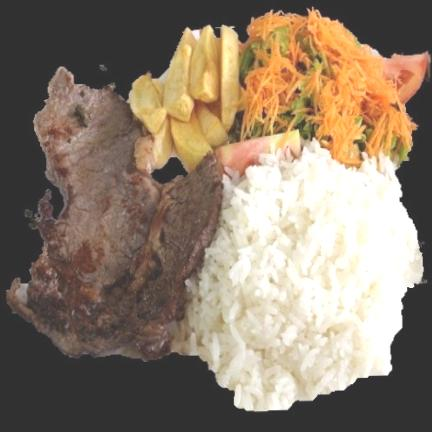carrot: (236, 14, 415, 165)
meat: (5, 66, 225, 359)
potato: (126, 26, 242, 174)
rice: (177, 142, 424, 410)
